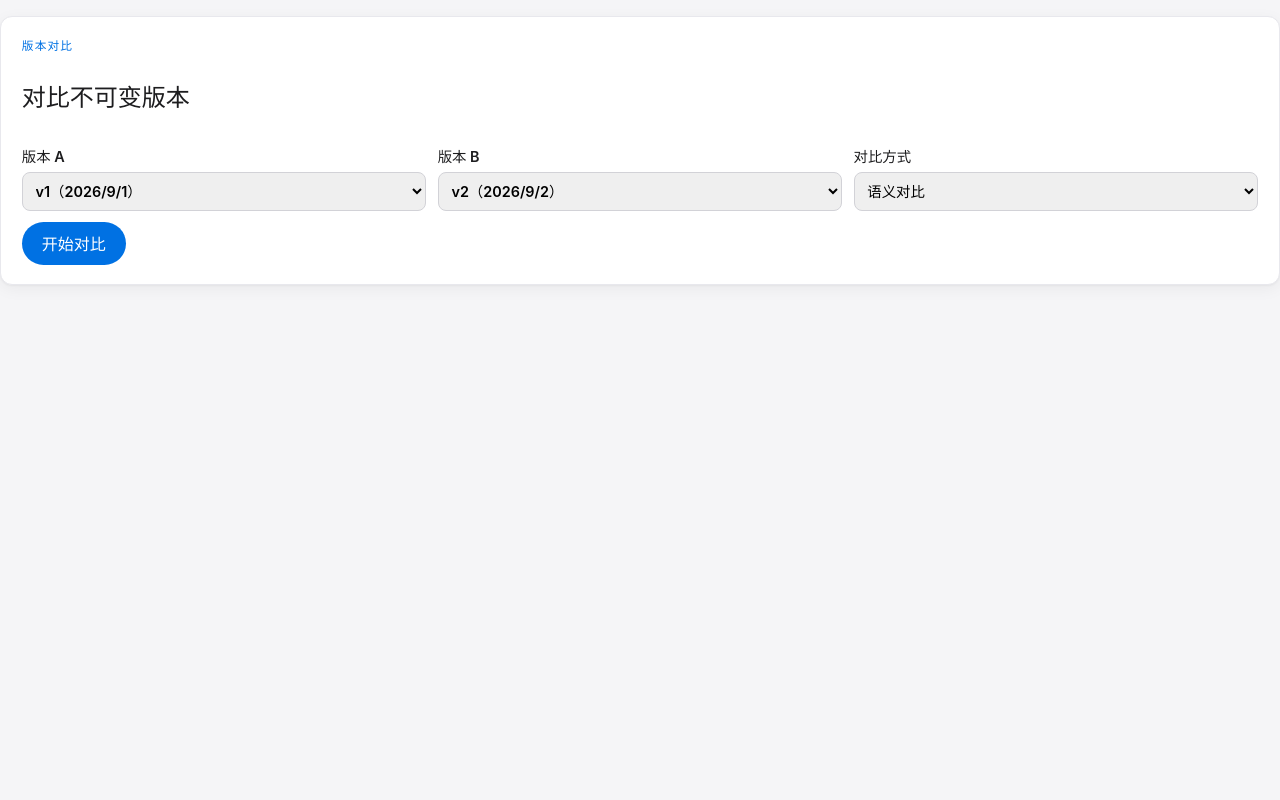
ComparisonView › labels a model-backed comparison and renders semantic change detail
Click the button "开始对比".
click(74, 243)  # box [22,222,126,265]
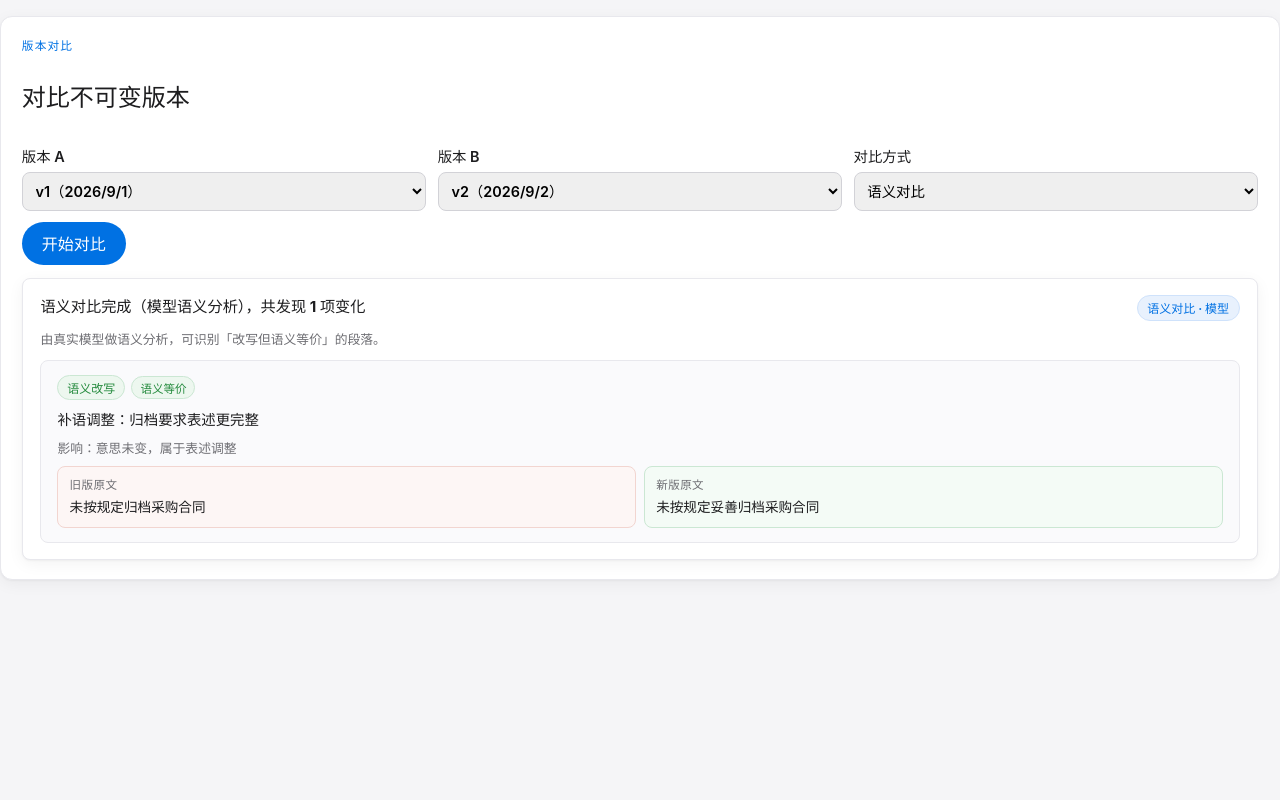
Expected: the text "语义对比 · 模型" is shown, [1137,295,1240,321]
Expected: the text "语义等价" is shown, [131,376,196,399]
Expected: the text "旧版原文" is shown, [70,478,118,492]
